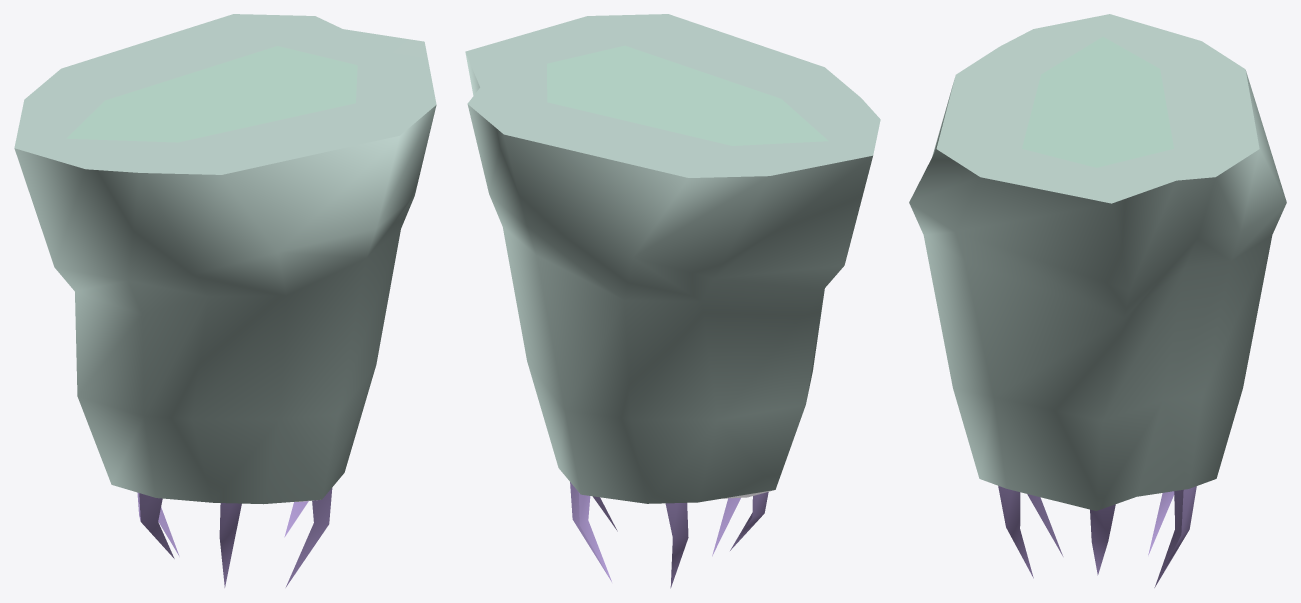
File: barnacle.fbx
3 renders of one model, left to right at view 1: azimuth 30°, elevation 25°; view 2: azimuth 150°, elevation 25°; view 3: azimuth 270°, elevation 25°, orthographic. The views are drawn at different scales.
Visible parts, largest first — view 1: body_ref; view 2: body_ref; view 3: body_ref.
Boxes of the visible parts, box(x1,y1,x2,y2) form: body_ref: box(14, 14, 436, 587); body_ref: box(465, 14, 880, 588); body_ref: box(909, 14, 1286, 587).
Size of the model in its own units: 4665 by 5205 by 3820.
